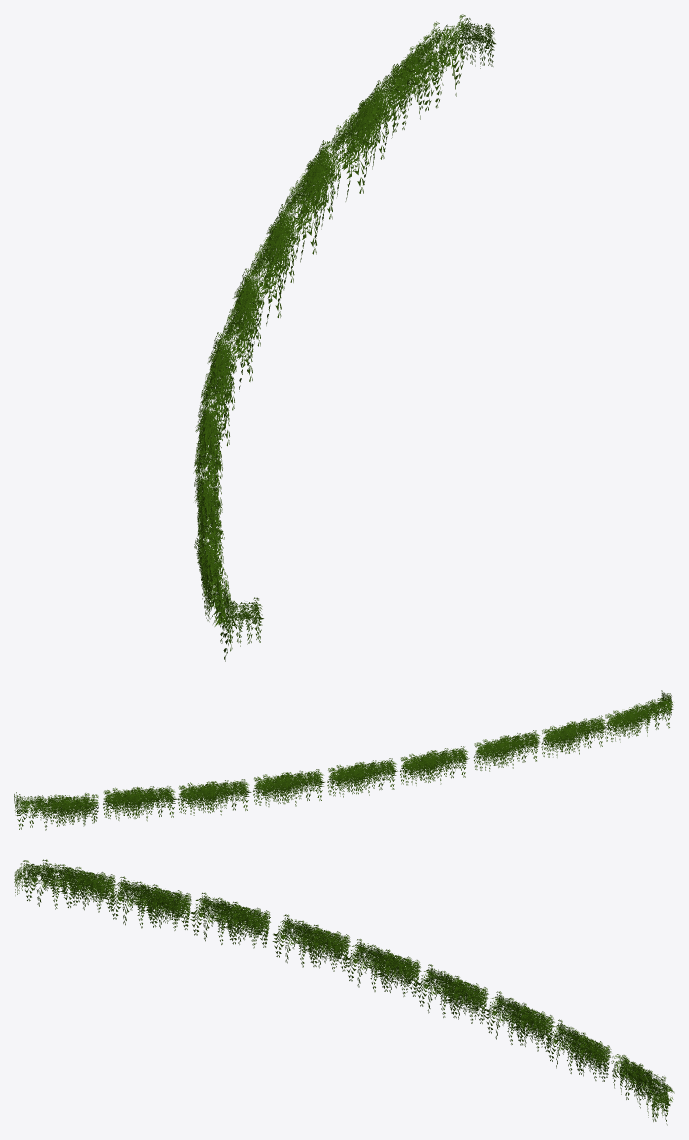
File: Ivy02_Web.glb
3 views of the same model, one above another, from view 1: azimuth 30°, elevation 25°; view 2: azimuth 150°, elevation 25°; view 3: azimuth 270°, elevation 25° (orthographic). The views are drawn at different scales.
Visible parts, largest first — view 1: Ivy03.001; view 2: Ivy03.001; view 3: Ivy03.001.
Boxes of the visible parts, <box> form: Ivy03.001: <box>193,14,495,661</box>; Ivy03.001: <box>14,690,673,830</box>; Ivy03.001: <box>14,859,674,1125</box>.
Bounding box in the file's own units: 28.78 × 2.7 × 34.17.
